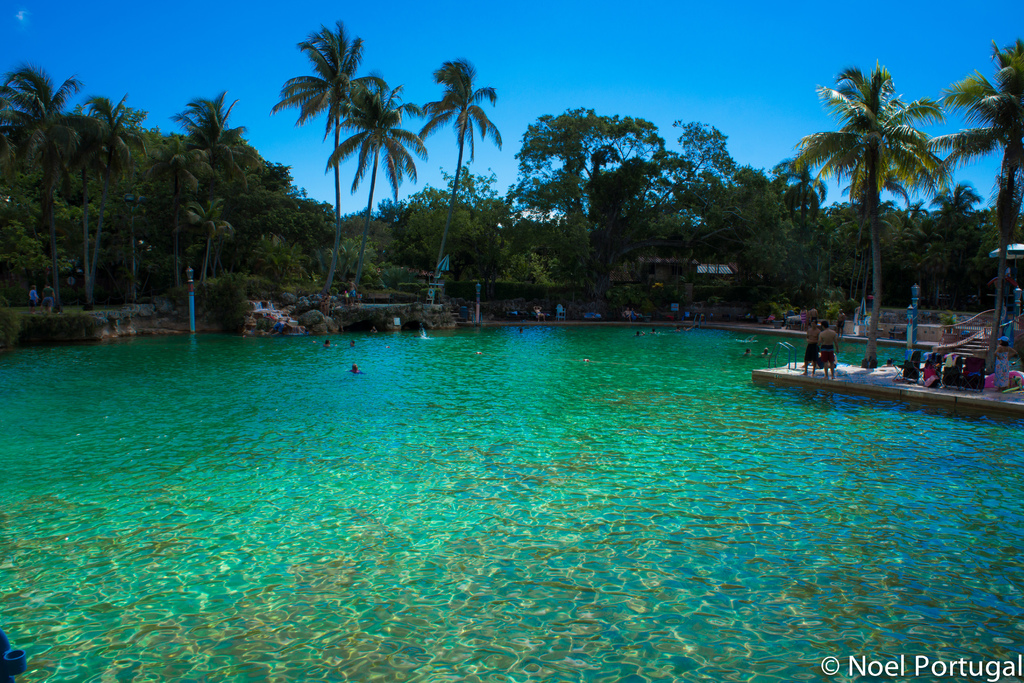Tree: (0, 17, 1023, 374)
